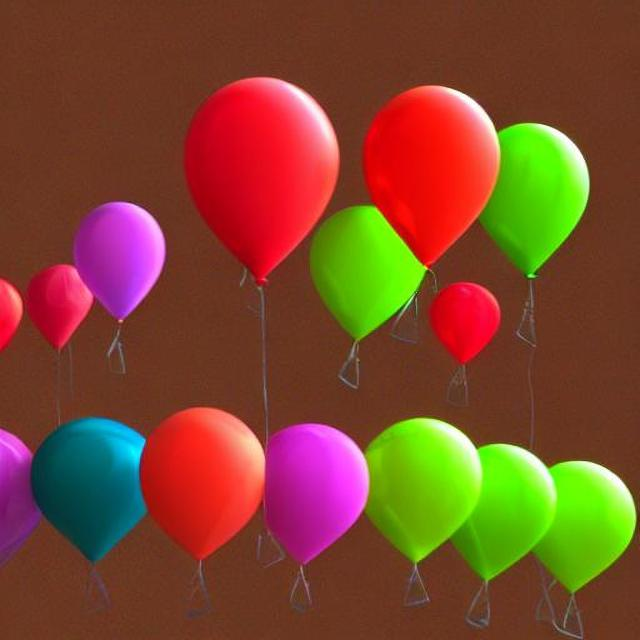balloon: (276, 411, 629, 621), (310, 88, 576, 343), (20, 400, 272, 593), (158, 84, 338, 259), (27, 198, 164, 355)
